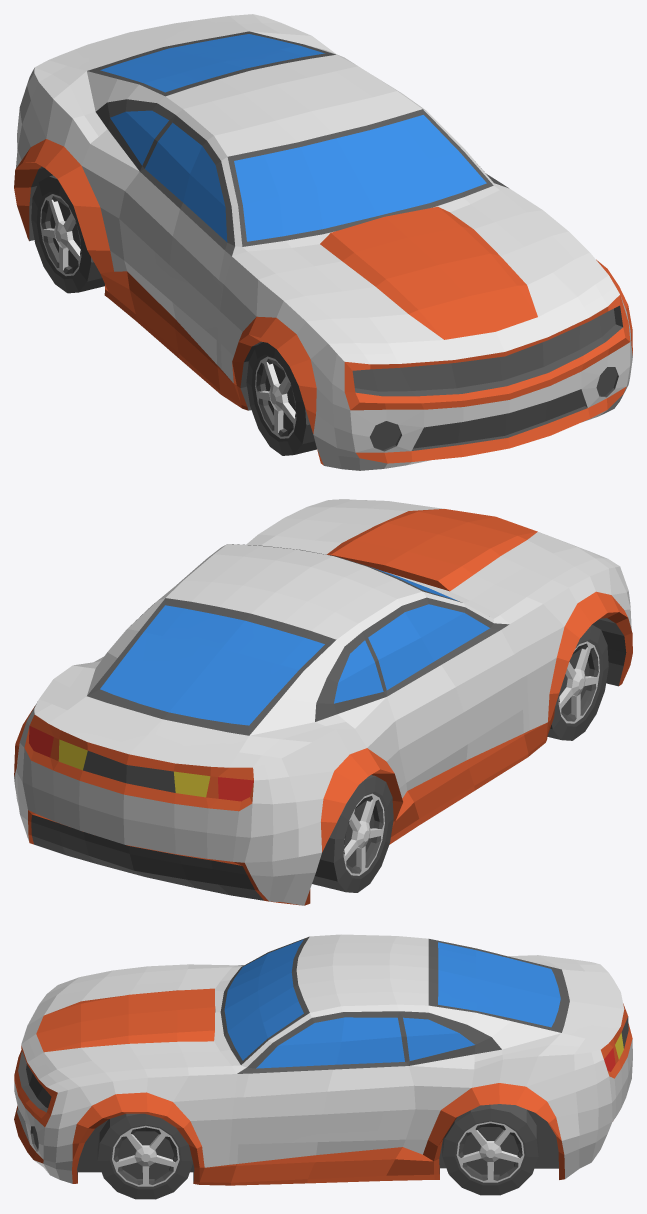
File: car3.fbx
The picture shows the model from 3 angles, top to bottom: view 1: azimuth 30°, elevation 25°; view 2: azimuth 150°, elevation 25°; view 3: azimuth 270°, elevation 25°; orthographic projection. The views are drawn at different scales.
Parts seen in each view (by area): view 1: Plane; view 2: Plane; view 3: Plane.
Part boxes in pixels (x1,y1,x2,y2): Plane: (14,14,632,470); Plane: (14,499,632,905); Plane: (14,934,632,1199).
Size of the model in its own units: 112 by 70.54 by 226.
